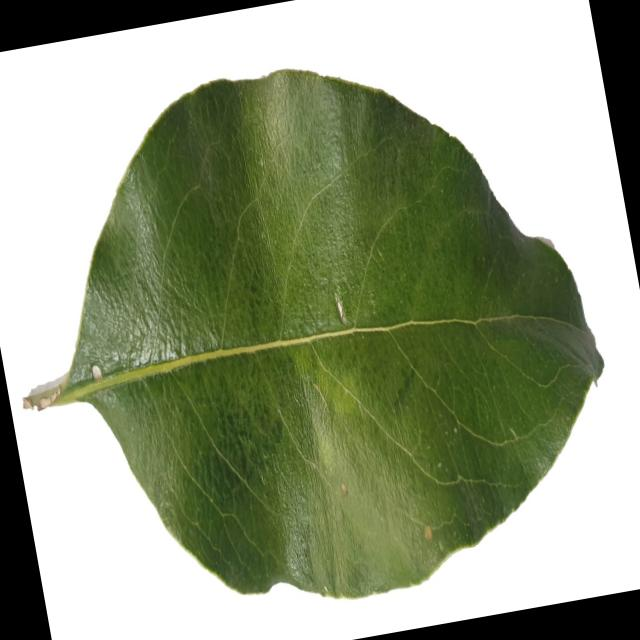Medicinal-Sandalwood: (0, 17, 638, 640)
